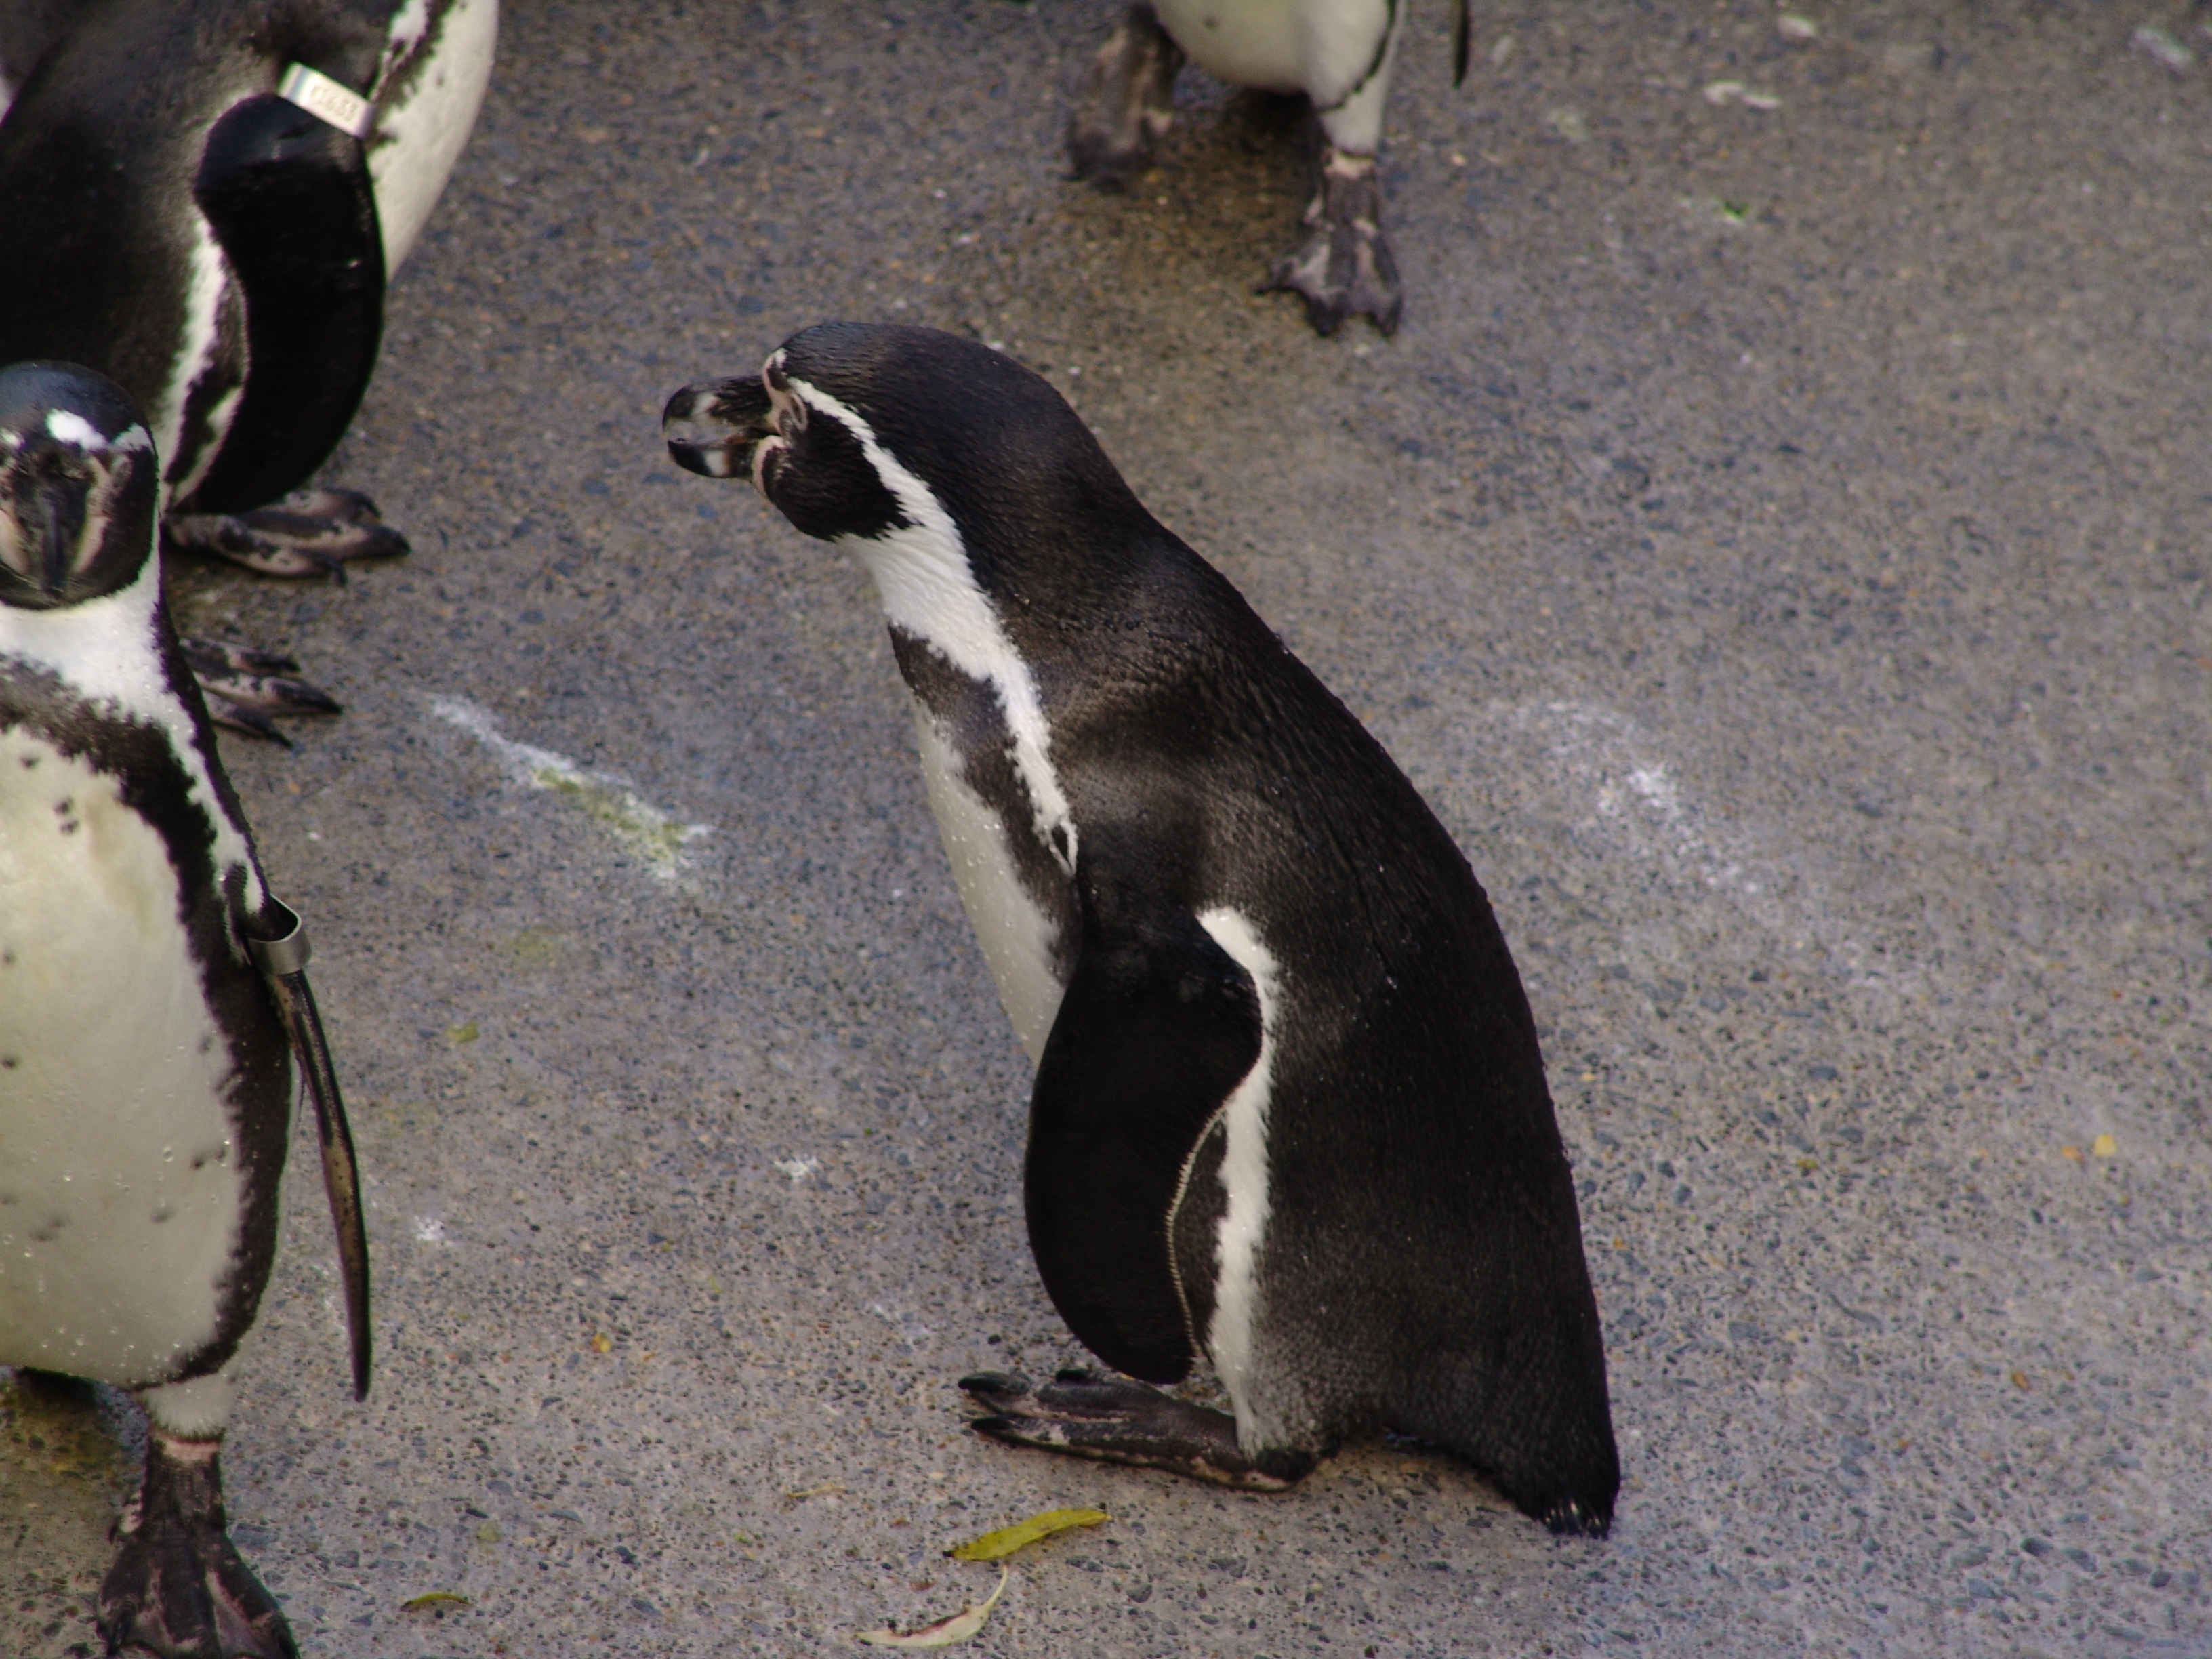penguin: (658, 314, 1648, 1547), (9, 349, 394, 1652)
